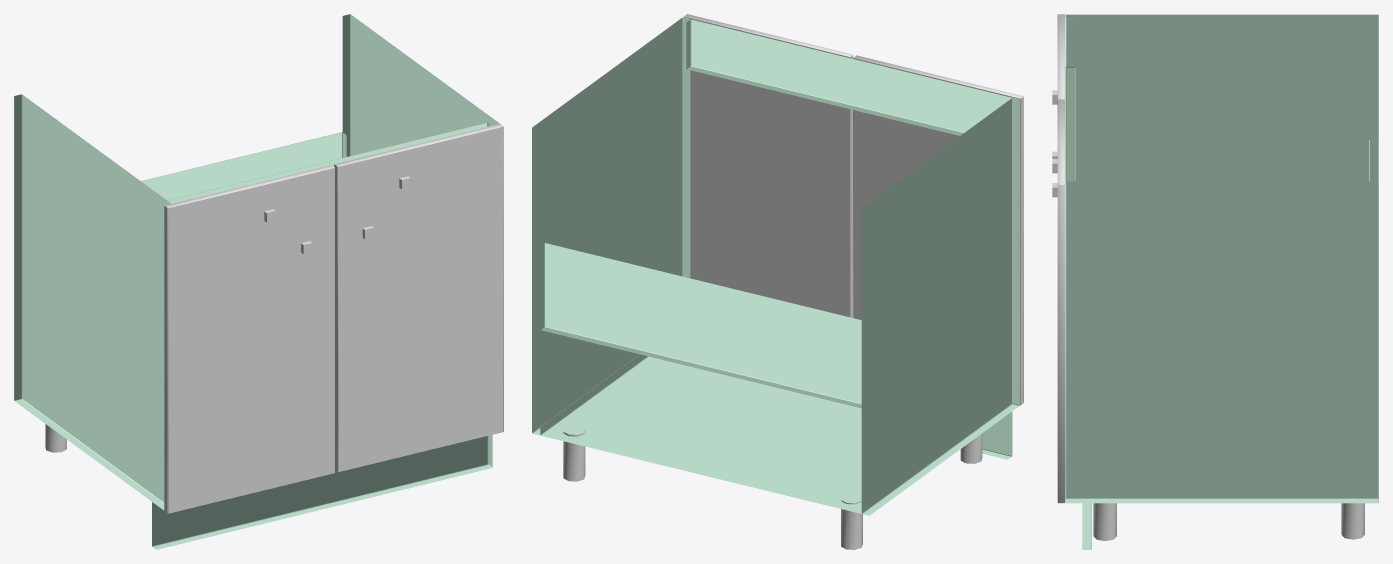
The picture shows the model from 3 angles, left to right: view 1: azimuth 30°, elevation 25°; view 2: azimuth 150°, elevation 25°; view 3: azimuth 270°, elevation 25°; orthographic projection. The views are drawn at different scales.
Visible parts, largest first — view 1: M_CL_6, M_CL_1_F.007, M_CL_1_F.008, M_CL_1_F_C.007, M_CL_1_F_C.008; view 2: M_CL_6, M_CL_1_F_B.008, M_CL_1_F_A.008, M_CL_1_F_A.007, M_CL_1_F_C.007, Legs.005, M_CL_1_F.007, M_CL_1_F_B.007, M_CL_1_F.008, M_CL_1_F_C.008; view 3: M_CL_6, M_CL_1_F.008, Legs.005, M_CL_1_F.007.
Part boxes in pixels (x1=…): M_CL_6: x1=14, y1=14, x2=499, y2=549; M_CL_1_F.007: x1=165, y1=165, x2=334, y2=513; M_CL_1_F.008: x1=335, y1=124, x2=503, y2=472; M_CL_1_F_C.007: x1=164, y1=206, x2=167, y2=512; M_CL_1_F_C.008: x1=334, y1=164, x2=336, y2=471; M_CL_6: x1=532, y1=17, x2=1020, y2=515; M_CL_1_F_B.008: x1=767, y1=37, x2=852, y2=316; M_CL_1_F_A.008: x1=684, y1=16, x2=851, y2=296; M_CL_1_F_A.007: x1=853, y1=58, x2=1022, y2=319; M_CL_1_F_C.007: x1=853, y1=58, x2=1023, y2=404; Legs.005: x1=563, y1=429, x2=982, y2=549; M_CL_1_F.007: x1=853, y1=55, x2=1023, y2=402; M_CL_1_F_B.007: x1=937, y1=78, x2=1022, y2=404; M_CL_1_F.008: x1=684, y1=14, x2=853, y2=57; M_CL_1_F_C.008: x1=684, y1=17, x2=852, y2=317; M_CL_6: x1=1065, y1=14, x2=1378, y2=549; M_CL_1_F.008: x1=1057, y1=100, x2=1065, y2=503; Legs.005: x1=1093, y1=503, x2=1364, y2=540; M_CL_1_F.007: x1=1057, y1=14, x2=1065, y2=100.
Size of the model in its own units: 7.5 by 7.51 by 6.05.
